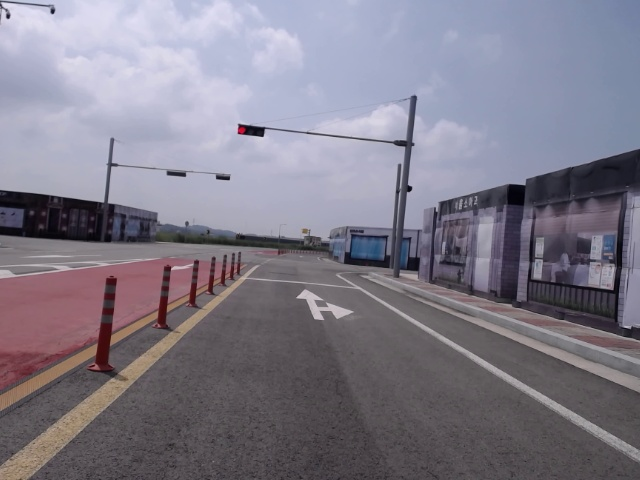red_3: (238, 124, 265, 137)
